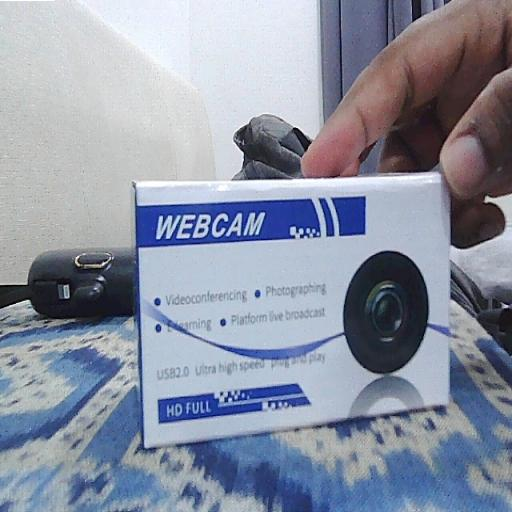webcam_box: (134, 172, 452, 450)
